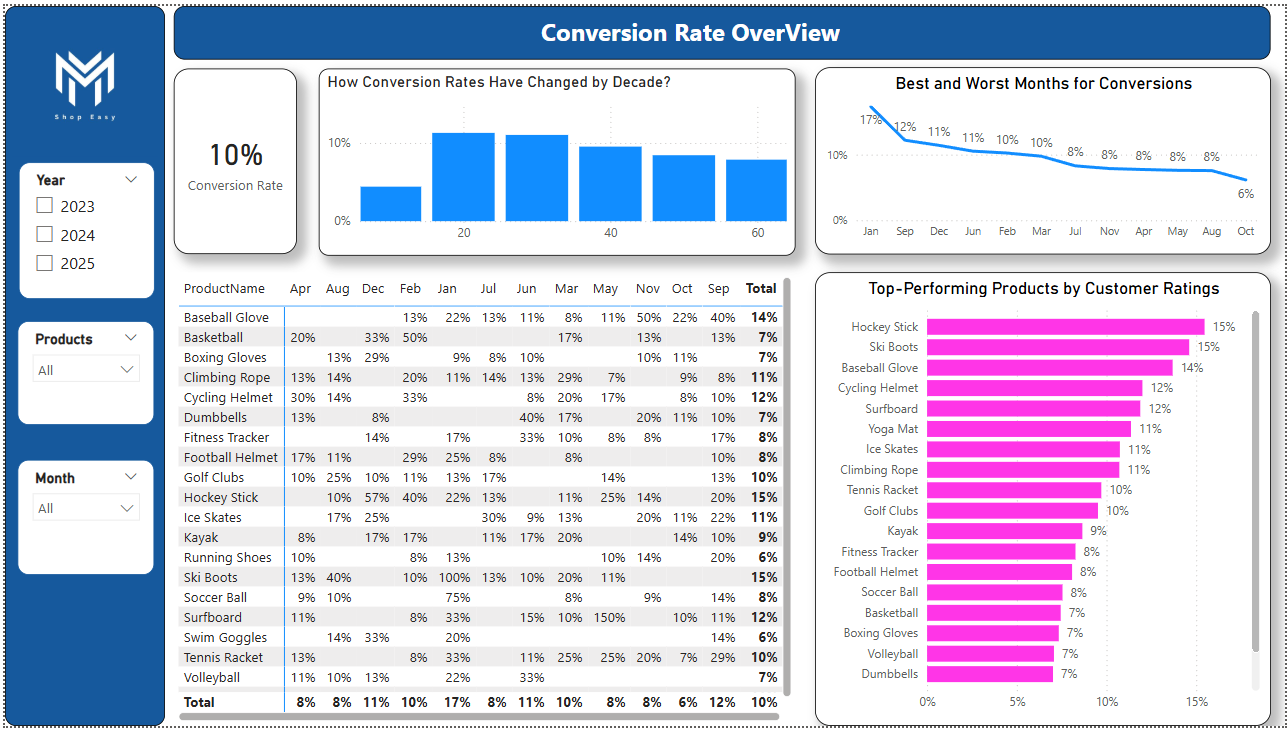

This screenshot's page, from the dashboard's own definition file:
{"tool":"powerbi","page":{"name":"Conversion Rate Details","canvas":[1280,720],"ordinal":1},"visuals":[{"type":"textbox","box":[0,0,160.2,720.2],"z":0},{"type":"card","fields":{"Values":["Calculations.Conversion Rate"]},"box":[168.8,62.4,123.5,185.9],"z":1000},{"type":"lineChart","title":"Best and Worst Months for Conversions","fields":{"Y":["Calculations.Conversion Rate"],"Category":["Calendar.MonthNameShort"]},"box":[809.5,61.1,456.1,187.1],"z":2000},{"type":"barChart","title":"Top-Performing Products by Customer Ratings","fields":{"Category":["dim_products.ProductName"],"Y":["Calculations.Conversion Rate"]},"box":[809.5,266.6,456.1,453.7],"z":3000},{"type":"pivotTable","fields":{"Values":["Calculations.Conversion Rate"],"Rows":["dim_products.ProductName"],"Columns":["Calendar.MonthNameShort"]},"box":[168.8,266.6,622.4,453.7],"z":4000},{"type":"clusteredColumnChart","title":"How Conversion Rates Have Changed by Decade?","fields":{"Y":["Calculations.Conversion Rate"],"Category":["dim_customers.Decade"]},"box":[314.3,62.4,476.9,187.1],"z":5000},{"type":"slicer","fields":{"Values":["Calendar.Year"]},"box":[13.5,156.5,136,137],"z":6000},{"type":"slicer","fields":{"Values":["dim_products.ProductName"]},"box":[12.2,315.5,137,103.9],"z":7000},{"type":"textbox","box":[168.8,0,1096.9,53.8],"z":8000},{"type":"image","box":[0,0,160.2,155.3],"z":9000},{"type":"slicer","fields":{"Values":["Calendar.MonthNameShort"]},"box":[12.2,453.7,137,114.9],"z":10000}]}

Visuals, with their boxes in screenshot pixels (x1, y1, x2, y2), scaled from the page's 1280x720 canvas onto the 1288x731 screenshot:
textbox: rect(0, 0, 161, 730)
card - Calculations.Conversion Rate: rect(170, 63, 294, 252)
"Best and Worst Months for Conversions" lineChart: rect(815, 62, 1274, 252)
"Top-Performing Products by Customer Ratings" barChart: rect(815, 271, 1274, 730)
pivotTable - Calculations.Conversion Rate x dim_products.ProductName: rect(170, 271, 796, 730)
"How Conversion Rates Have Changed by Decade?" clusteredColumnChart: rect(316, 63, 796, 253)
slicer - Calendar.Year: rect(14, 159, 150, 298)
slicer - dim_products.ProductName: rect(12, 320, 150, 426)
textbox: rect(170, 0, 1274, 55)
image: rect(0, 0, 161, 158)
slicer - Calendar.MonthNameShort: rect(12, 461, 150, 577)
